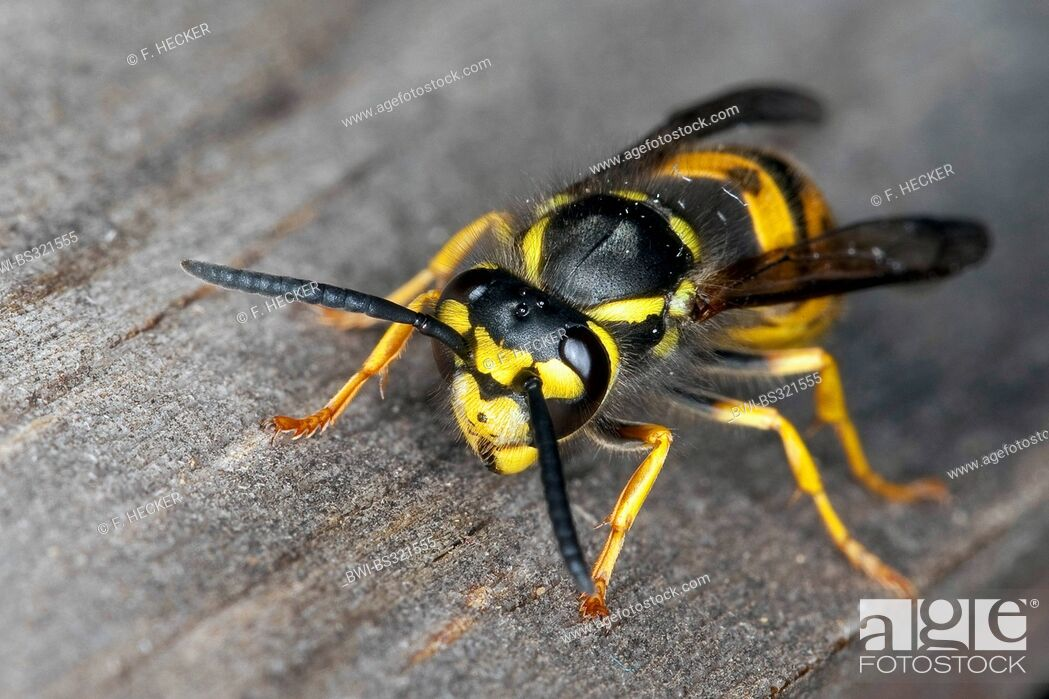chax: (166, 64, 999, 592)
